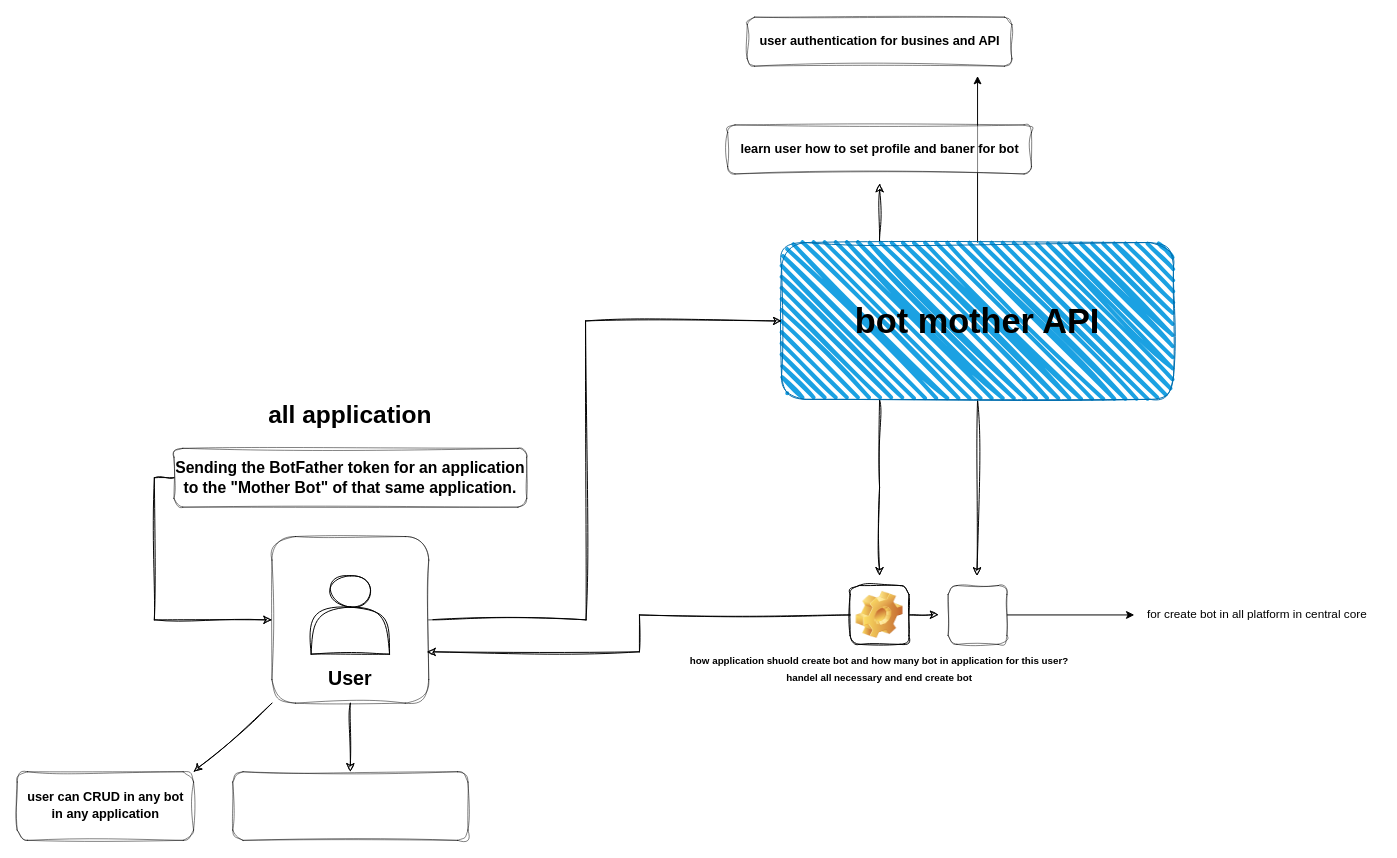
The diagram is 1397 pixels wide and 858 high, and some of its shapes have lost their labels. Each missing label, with the box of its shape:
create many bot in any application just one minte: (232, 771, 468, 840)
handeler adaptors: (947, 585, 1007, 644)
